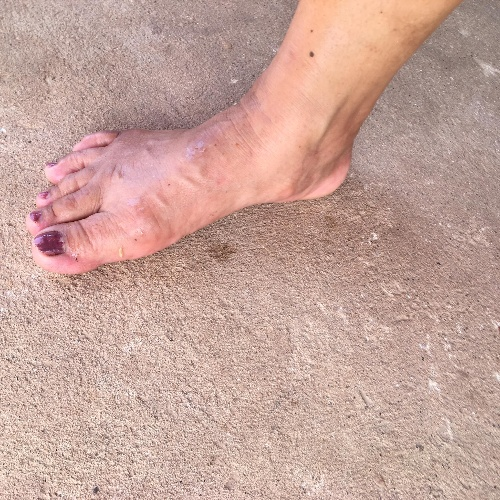3: (30, 216, 126, 273)
4: (298, 141, 352, 198)
Top_Foot: (23, 129, 357, 273)
